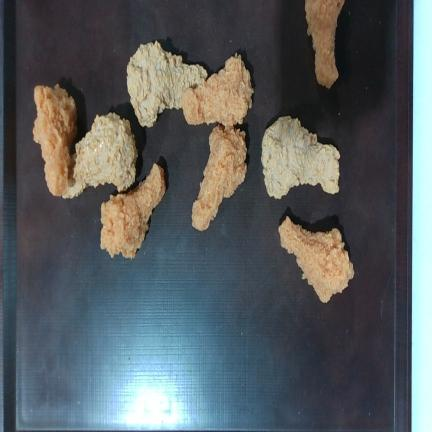chicken: (127, 41, 207, 127), (261, 116, 340, 199), (279, 216, 354, 302), (63, 113, 137, 197), (100, 163, 165, 257), (192, 125, 247, 230), (181, 53, 253, 126), (33, 84, 76, 196), (305, 0, 344, 88)
